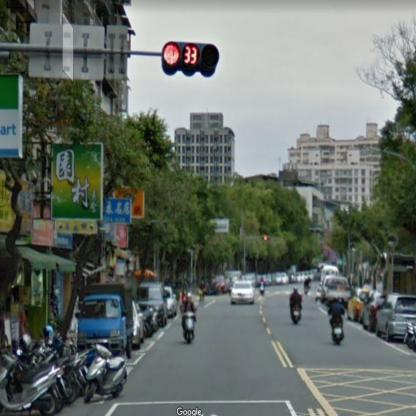Red Light: (162, 41, 220, 76)
